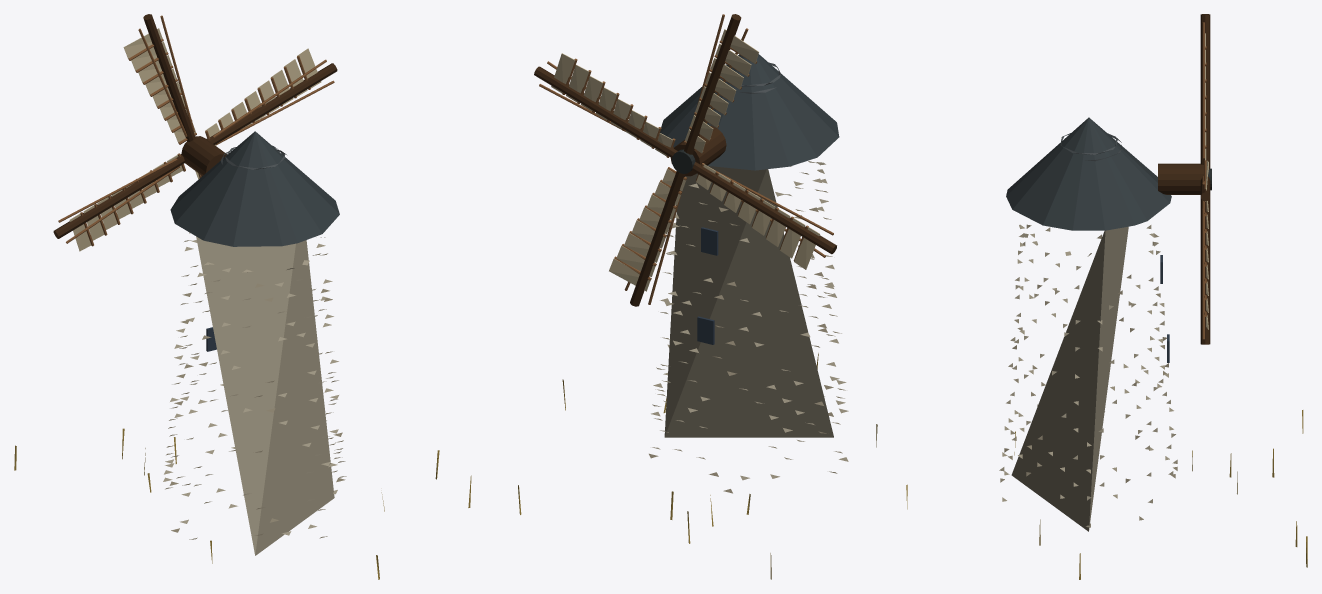
Rendered from rice_mill.glb.
The picture shows the model from 3 angles, left to right: view 1: azimuth 30°, elevation 25°; view 2: azimuth 150°, elevation 25°; view 3: azimuth 270°, elevation 25°; orthographic projection. The views are drawn at different scales.
Size of the model in its own units: 4.96 by 6.98 by 5.52.
